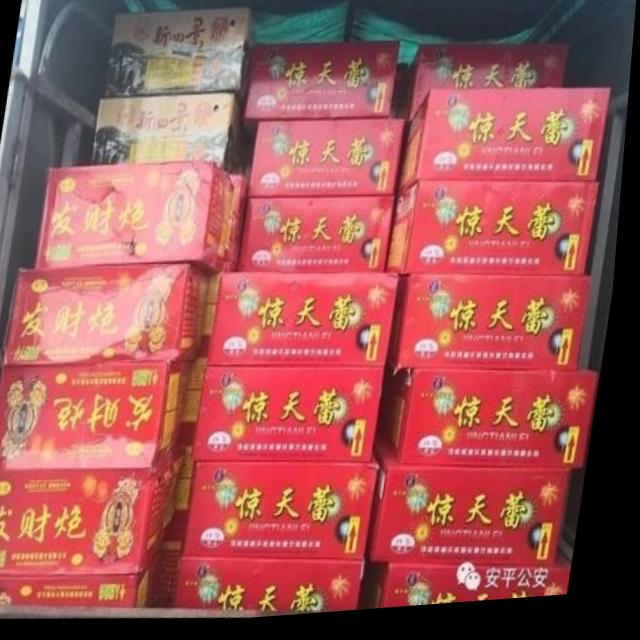box: (376, 447, 580, 576), (0, 450, 192, 576), (38, 166, 238, 276), (400, 97, 613, 199), (0, 362, 198, 470), (401, 375, 605, 477), (5, 265, 215, 364), (391, 187, 603, 285), (392, 279, 597, 377), (191, 467, 387, 565), (199, 370, 390, 468), (213, 276, 404, 372), (104, 12, 254, 110), (244, 47, 400, 141), (95, 96, 250, 177), (403, 50, 569, 125), (251, 125, 408, 201), (242, 201, 399, 276), (384, 559, 581, 615), (183, 559, 374, 616), (0, 561, 164, 610)
